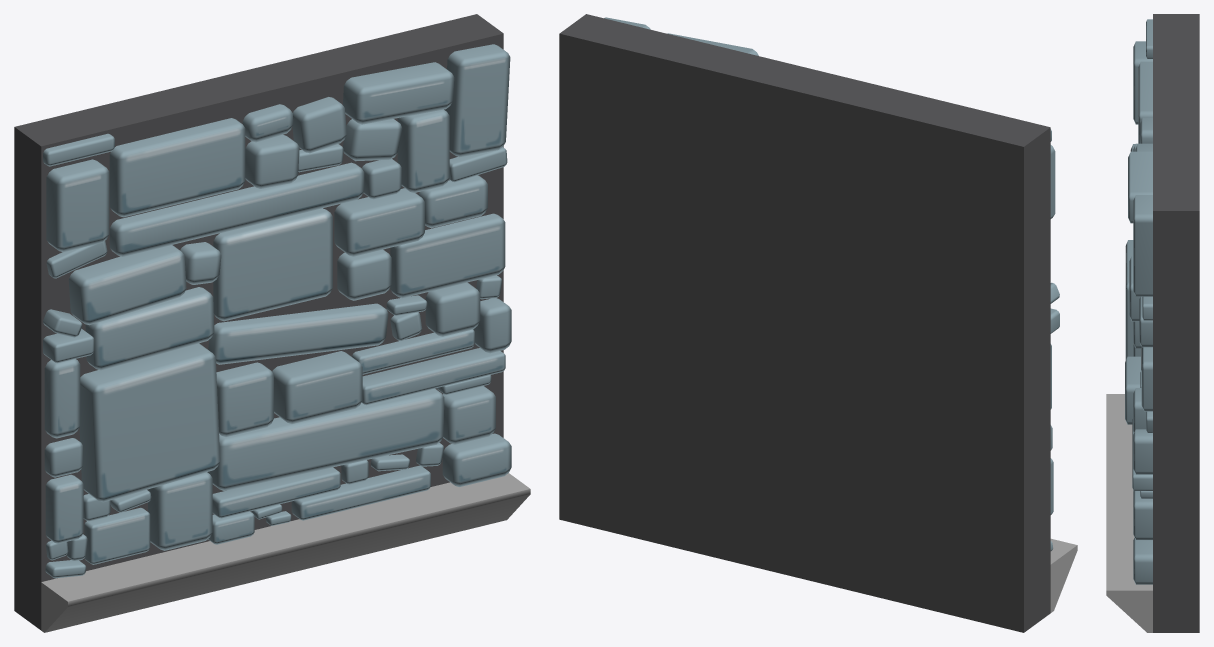
File: Single Wall Textured.fbx
3 renders of one model, left to right at view 1: azimuth 30°, elevation 25°; view 2: azimuth 150°, elevation 25°; view 3: azimuth 270°, elevation 25°, orthographic. The views are drawn at different scales.
Visible parts, largest first — view 1: Single_Wall; view 2: Single_Wall; view 3: Single_Wall.
Part boxes in pixels (x1,y1,x2,y2): Single_Wall: [14, 14, 530, 632]; Single_Wall: [559, 14, 1077, 632]; Single_Wall: [1106, 14, 1199, 632].
Size of the model in its own units: 10 by 10 by 2.
